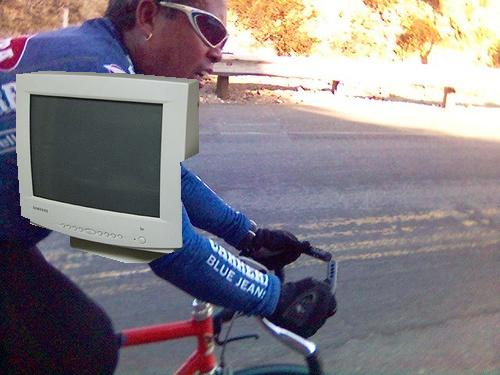tampered: (17, 72, 199, 263)
